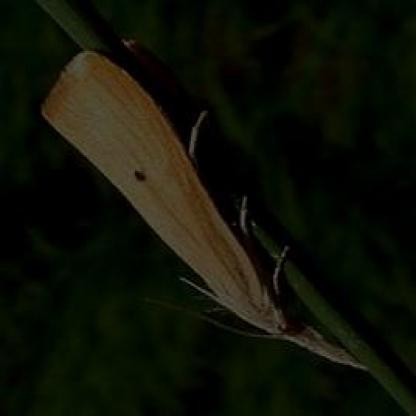stem-borer: (31, 34, 374, 374)
